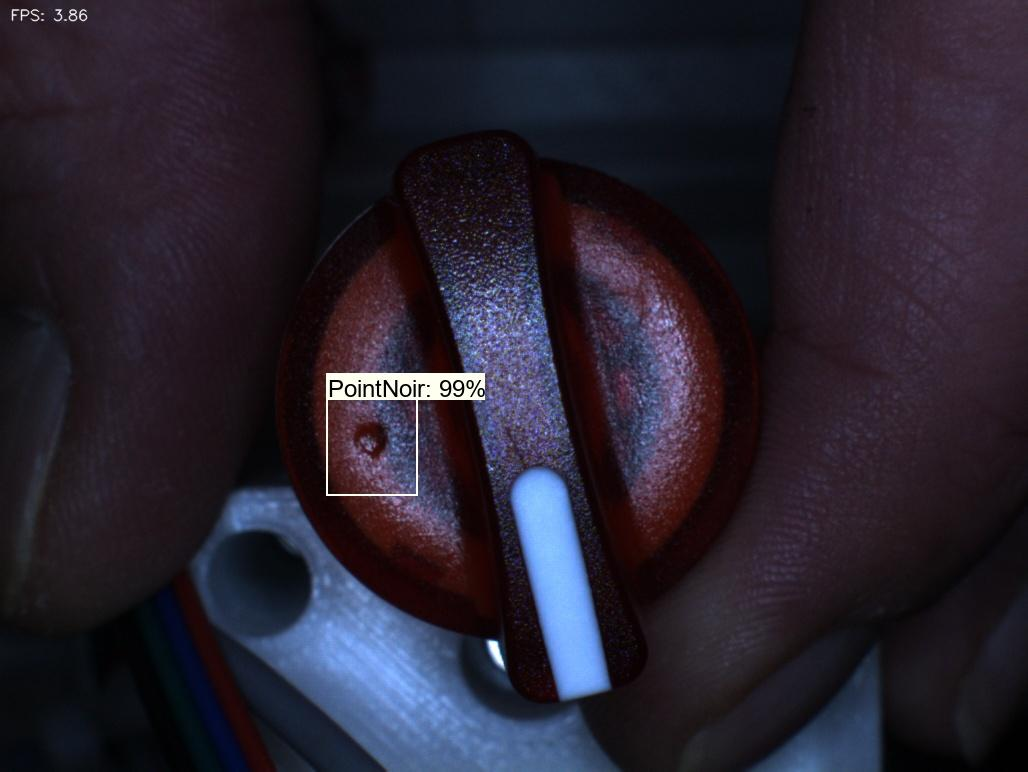Choc: (335, 408, 416, 487)
